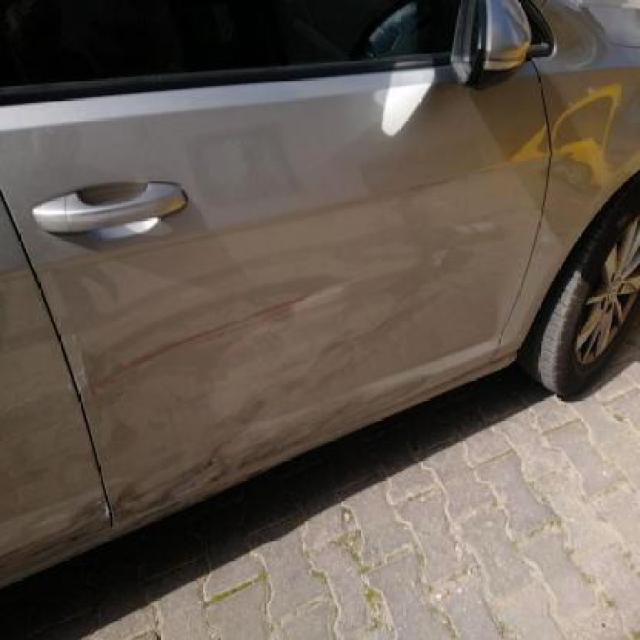car damage: (42, 220, 503, 531), (513, 74, 622, 212)
